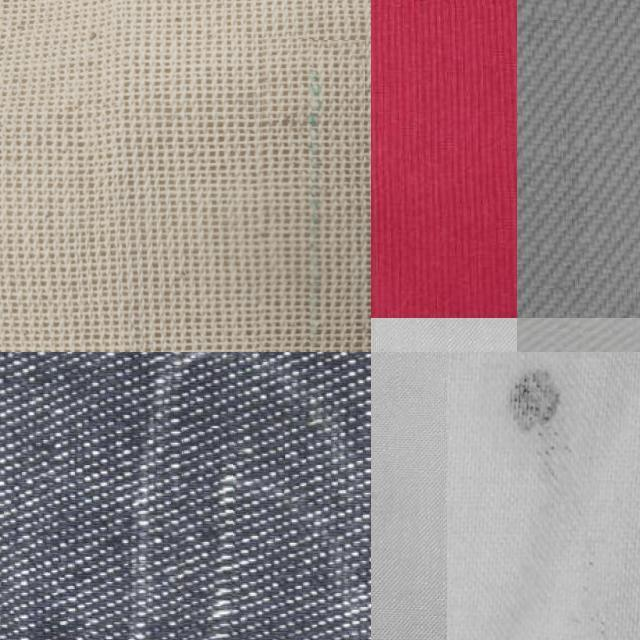Hole: (457, 352, 611, 489)
Thread_other: (257, 38, 364, 352), (180, 427, 284, 640)
